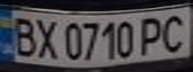0: (115, 17, 139, 59), (60, 18, 81, 61)
1: (100, 18, 118, 61)
7: (78, 18, 100, 61)
B: (6, 14, 39, 58)
C: (157, 11, 193, 53)
P: (136, 13, 169, 55)
X: (30, 16, 60, 60)
